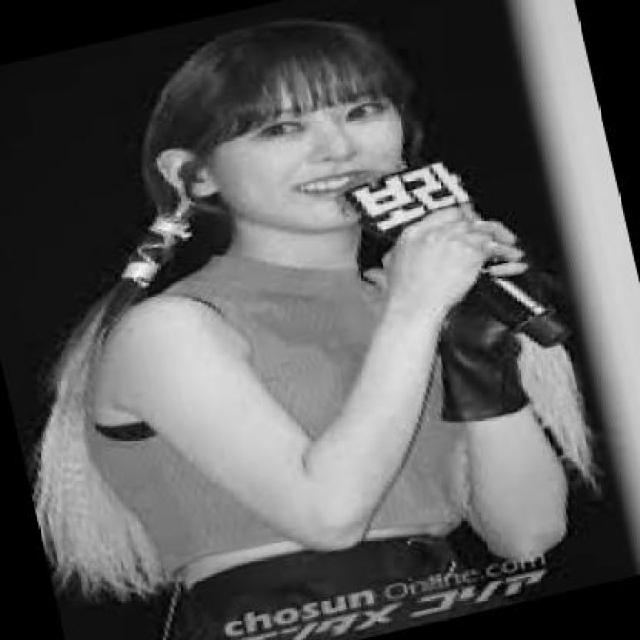earphone: (173, 150, 208, 207)
